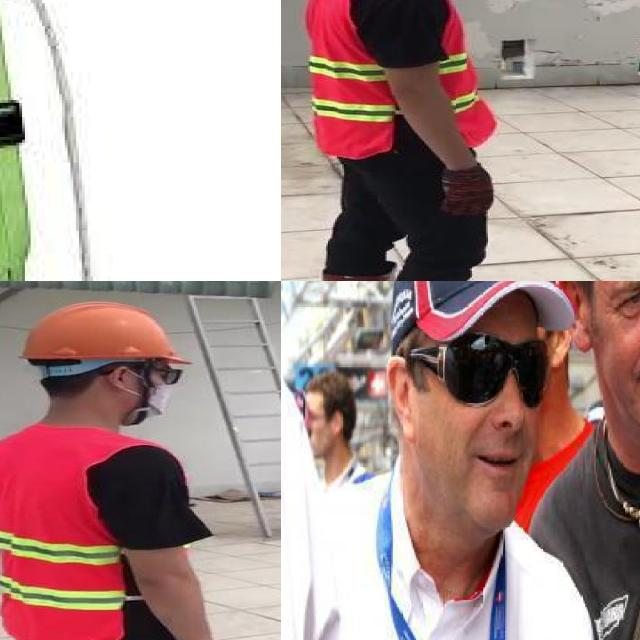face_nomask: (436, 330, 554, 490), (595, 281, 640, 397)
glasses: (402, 328, 564, 417)
hand_glove: (442, 166, 493, 215)
head_helmet: (296, 0, 539, 281), (15, 300, 192, 366)
person: (288, 281, 599, 640), (0, 299, 251, 640), (543, 281, 640, 640)
vest: (0, 427, 144, 640), (307, 0, 497, 154)
